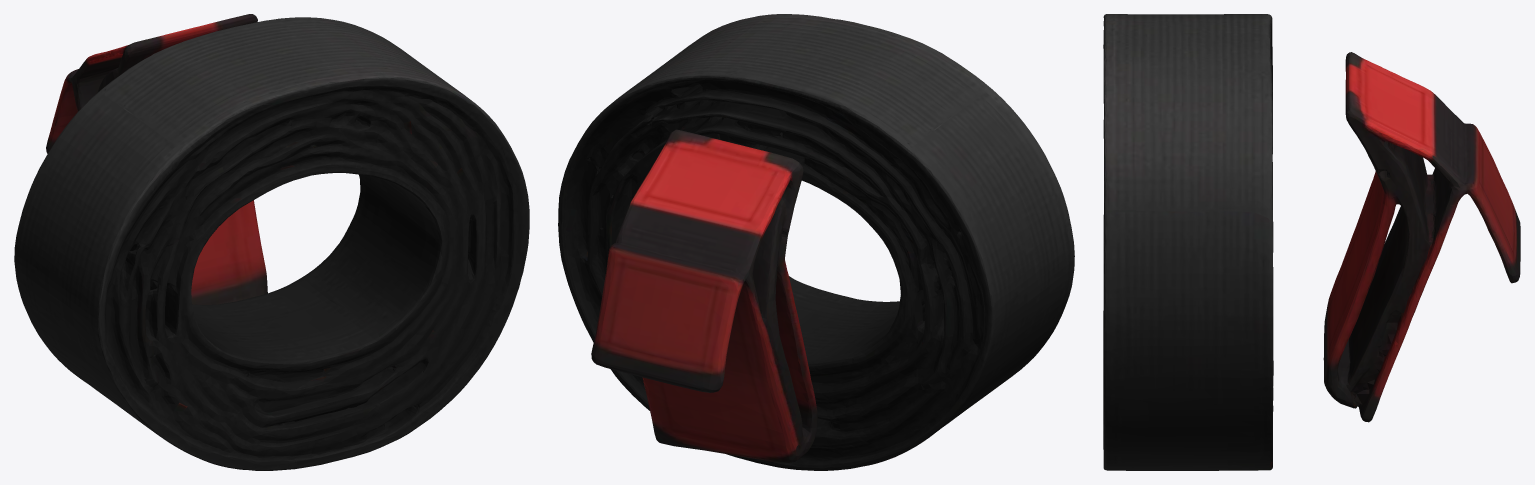
Rendered from jiu-jitsu-belts.glb.
3 views of the same model, side by side, from view 1: azimuth 30°, elevation 25°; view 2: azimuth 150°, elevation 25°; view 3: azimuth 270°, elevation 25° (orthographic).
Visible parts, largest first — view 1: geometry_0; view 2: geometry_0; view 3: geometry_0.
Boxes of the visible parts, bbox=[...] form: geometry_0: bbox=[14, 14, 529, 470]; geometry_0: bbox=[558, 14, 1074, 470]; geometry_0: bbox=[1103, 14, 1520, 470].
Bounding box in the file's own units: 0.9959 × 0.8403 × 0.8223.
Materials: 1 (1 with a texture image).
